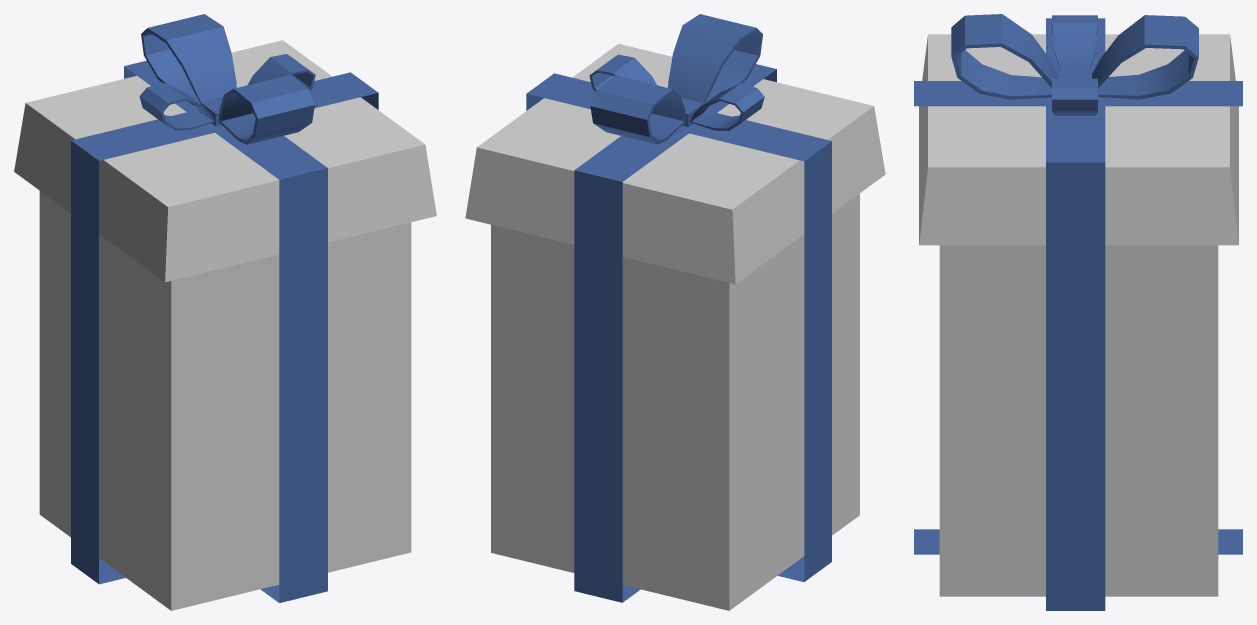
File: M_Gift_09.FBX
The picture shows the model from 3 angles, left to right: view 1: azimuth 30°, elevation 25°; view 2: azimuth 150°, elevation 25°; view 3: azimuth 270°, elevation 25°; orthographic projection. The views are drawn at different scales.
Parts seen in each view (by area): view 1: Object007; view 2: Object007; view 3: Object007.
Part boxes in pixels (x1,y1,x2,y2): Object007: (14, 14, 436, 610); Object007: (465, 14, 885, 610); Object007: (914, 14, 1242, 610).
Size of the model in its own units: 51.81 by 85.89 by 49.87.
1 material, 1 textured.
